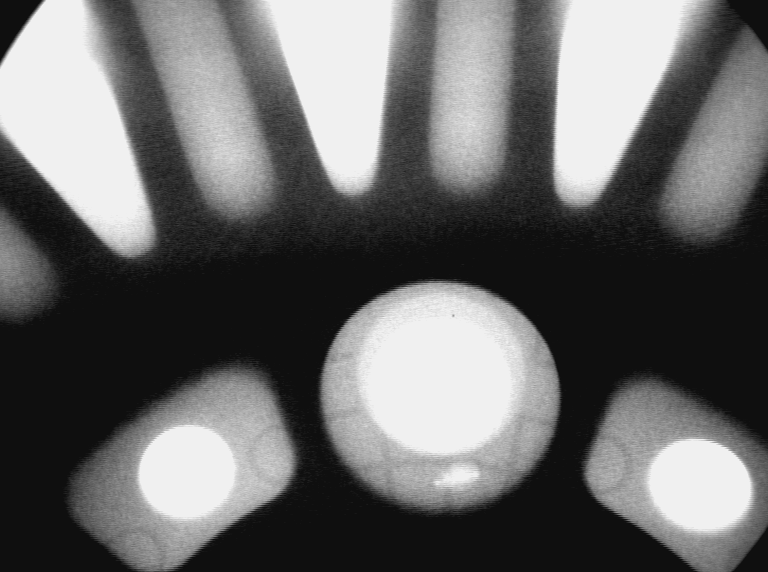defect: (436, 463, 484, 496)
